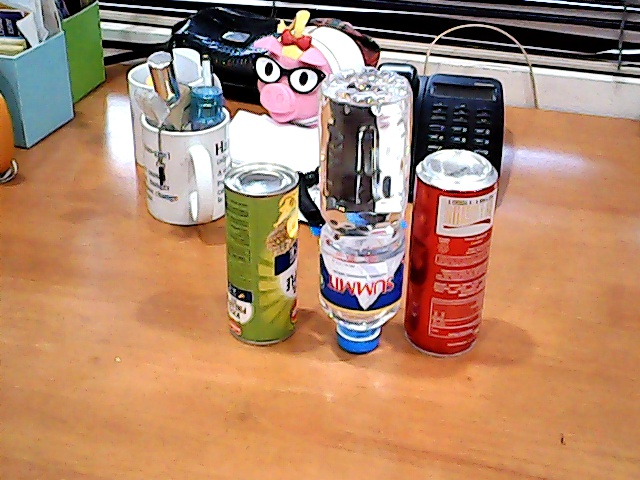Cola: (397, 122, 504, 369)
Pine Juice: (208, 155, 311, 359)
Summit Water: (306, 52, 415, 368)
